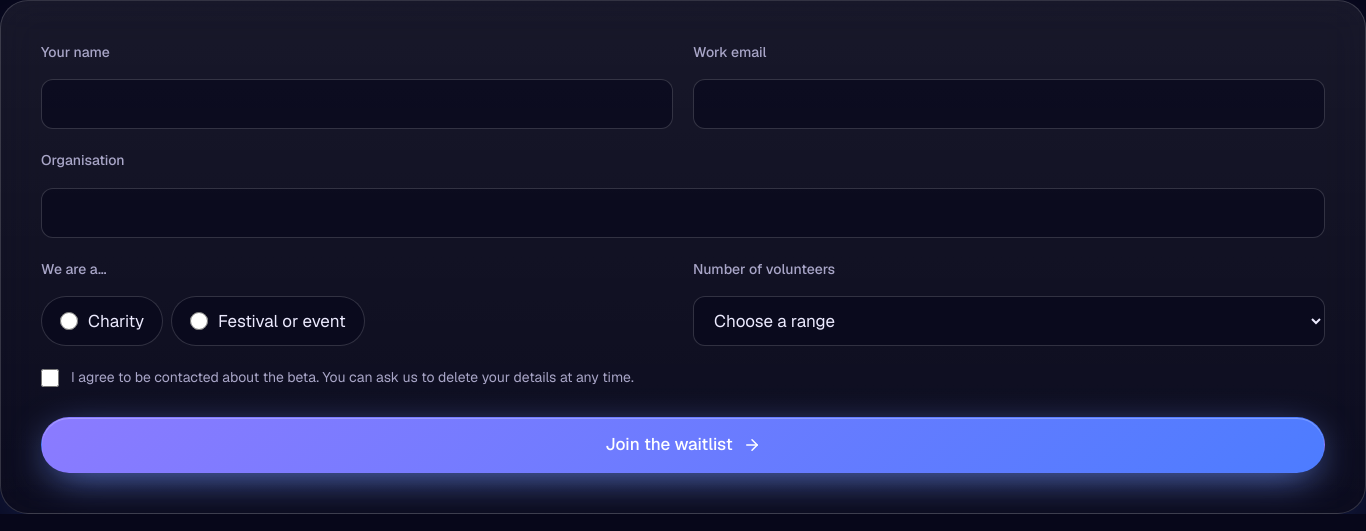
WaitlistForm › submits valid data and shows the success message
The width and height of the screenshot is (1366, 531).
In the field labelled "Your name": (357, 104) [41,79,673,129], type "Mari Tamm"
In the field labelled "Work email": (1009, 104) [693,79,1325,129], type "mari@example.org"
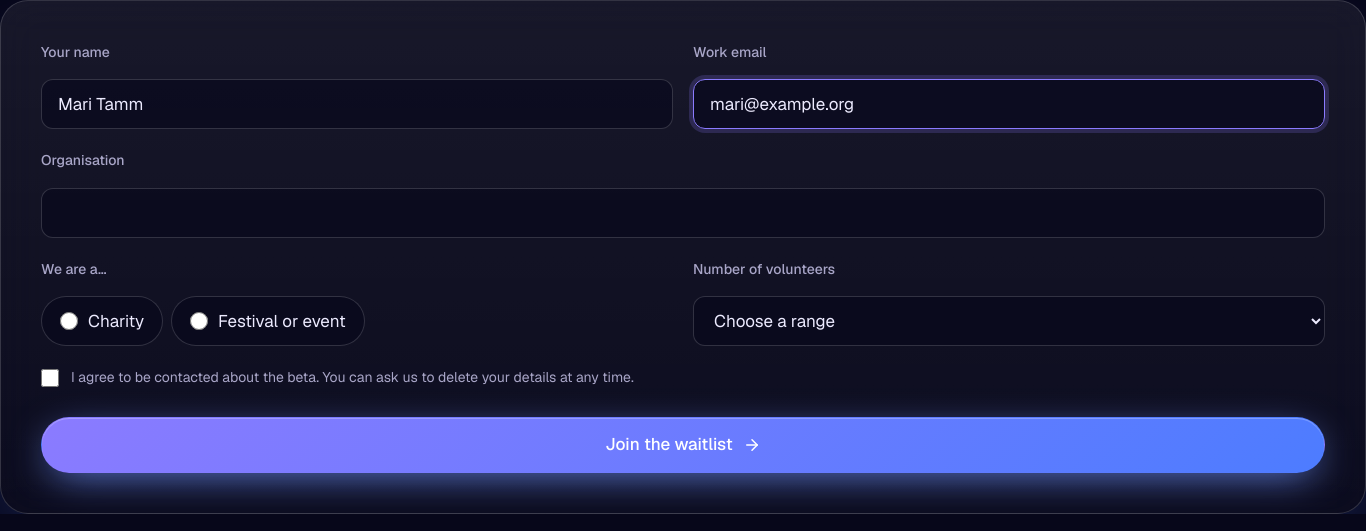
In the field labelled "Organisation": (683, 213) [41,188,1325,238], type "Harbour Food Bank"
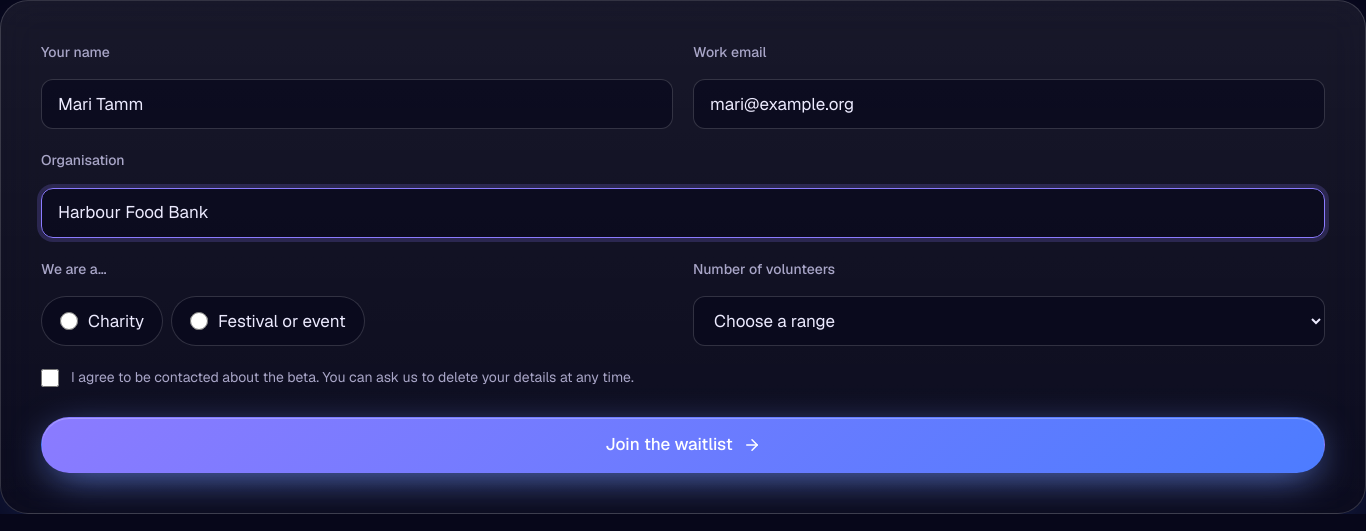
Click the radio button labelled "Charity": (69, 321) [60,312,78,330]
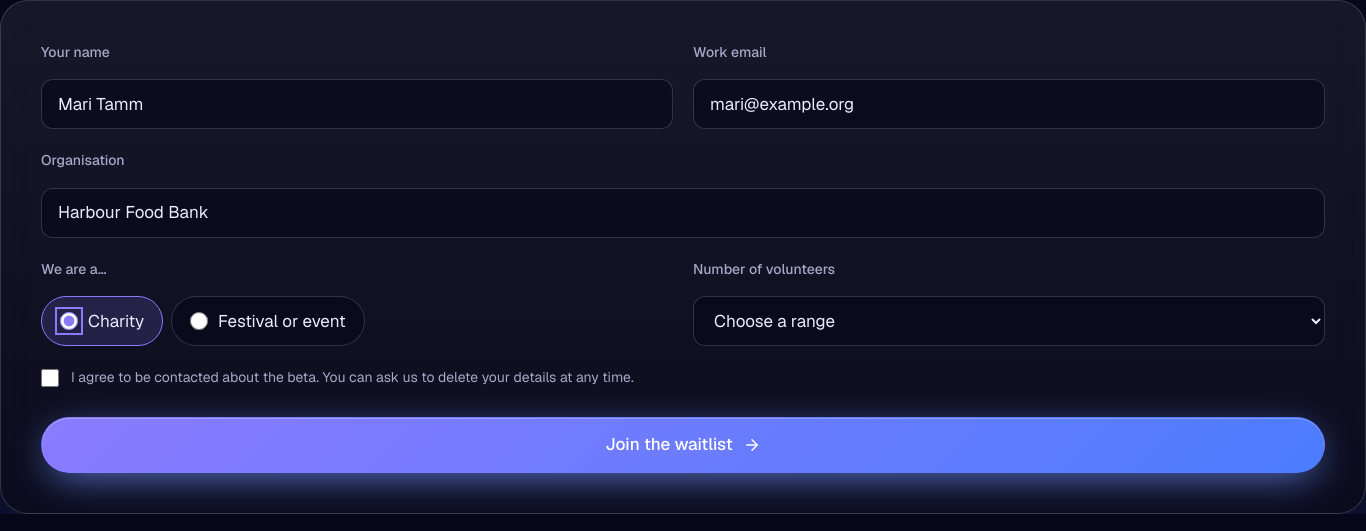
Select "26–100" in the dropdown labelled "Number of volunteers": (1009, 321) [693,296,1325,346]
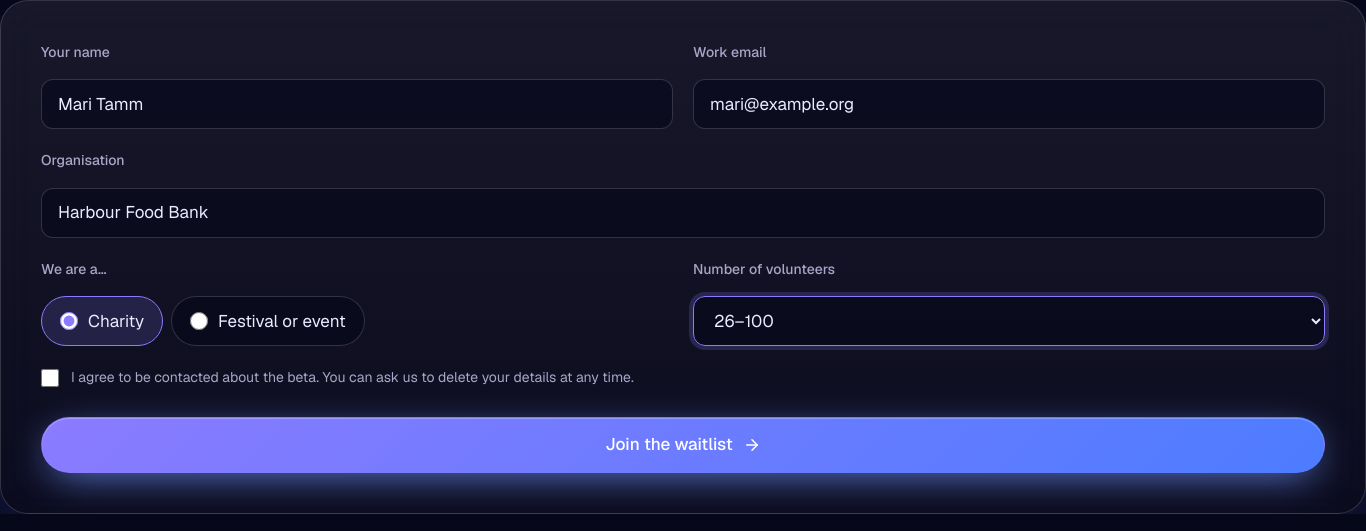
Click the checkbox: (50, 378) [41,369,59,387]
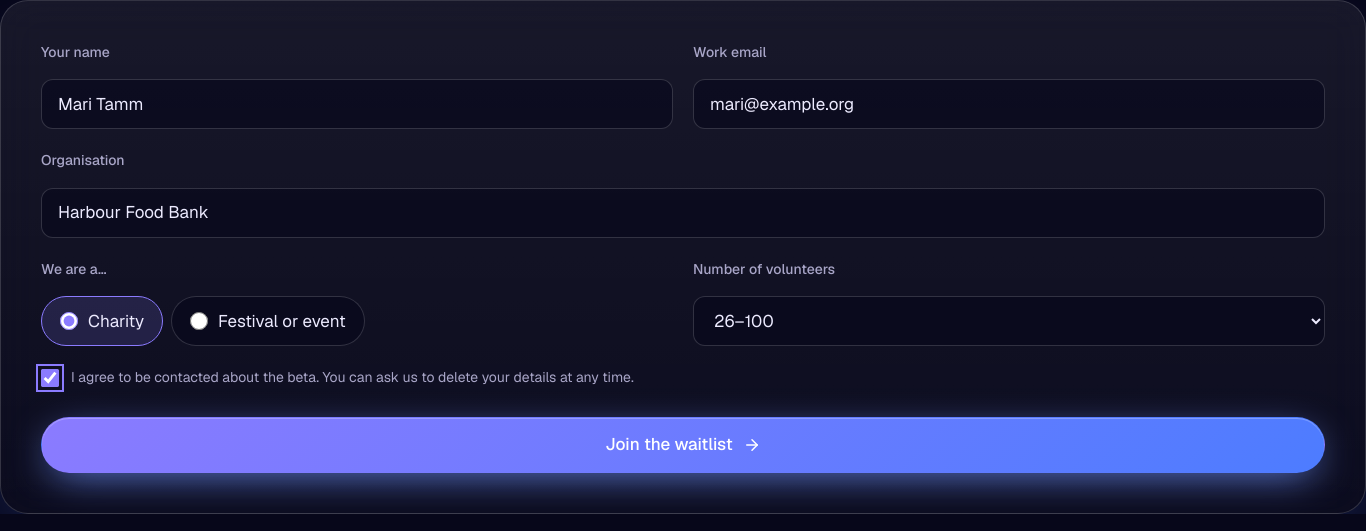
Click the button "Join the waitlist": (683, 445) [41,417,1325,473]
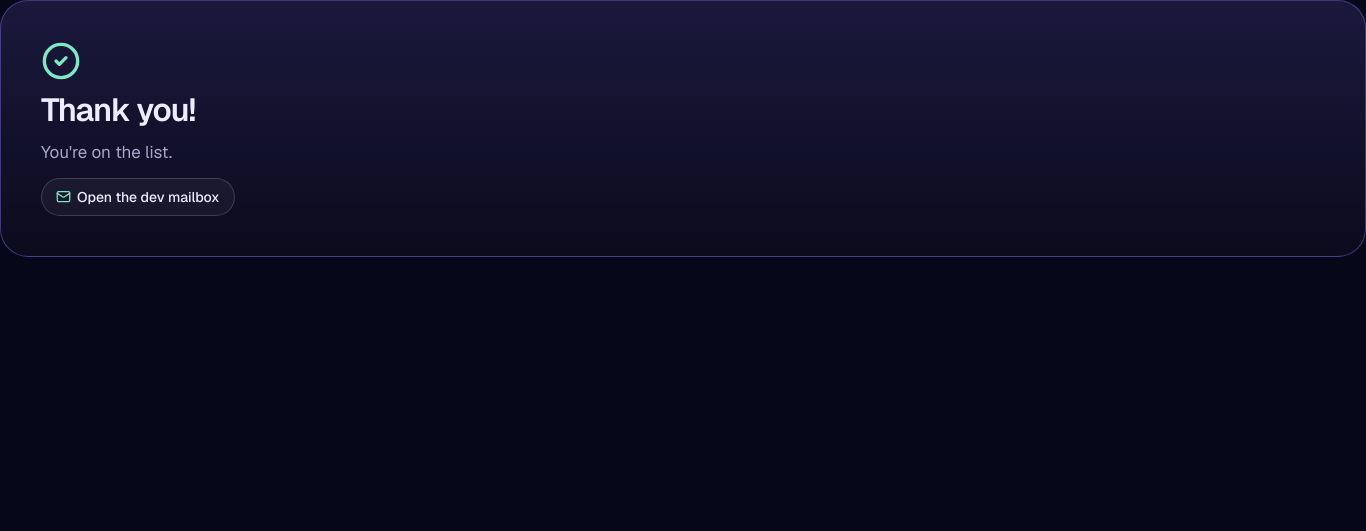
Check: the message shows "You're on the list.", box [41,141,172,163]
